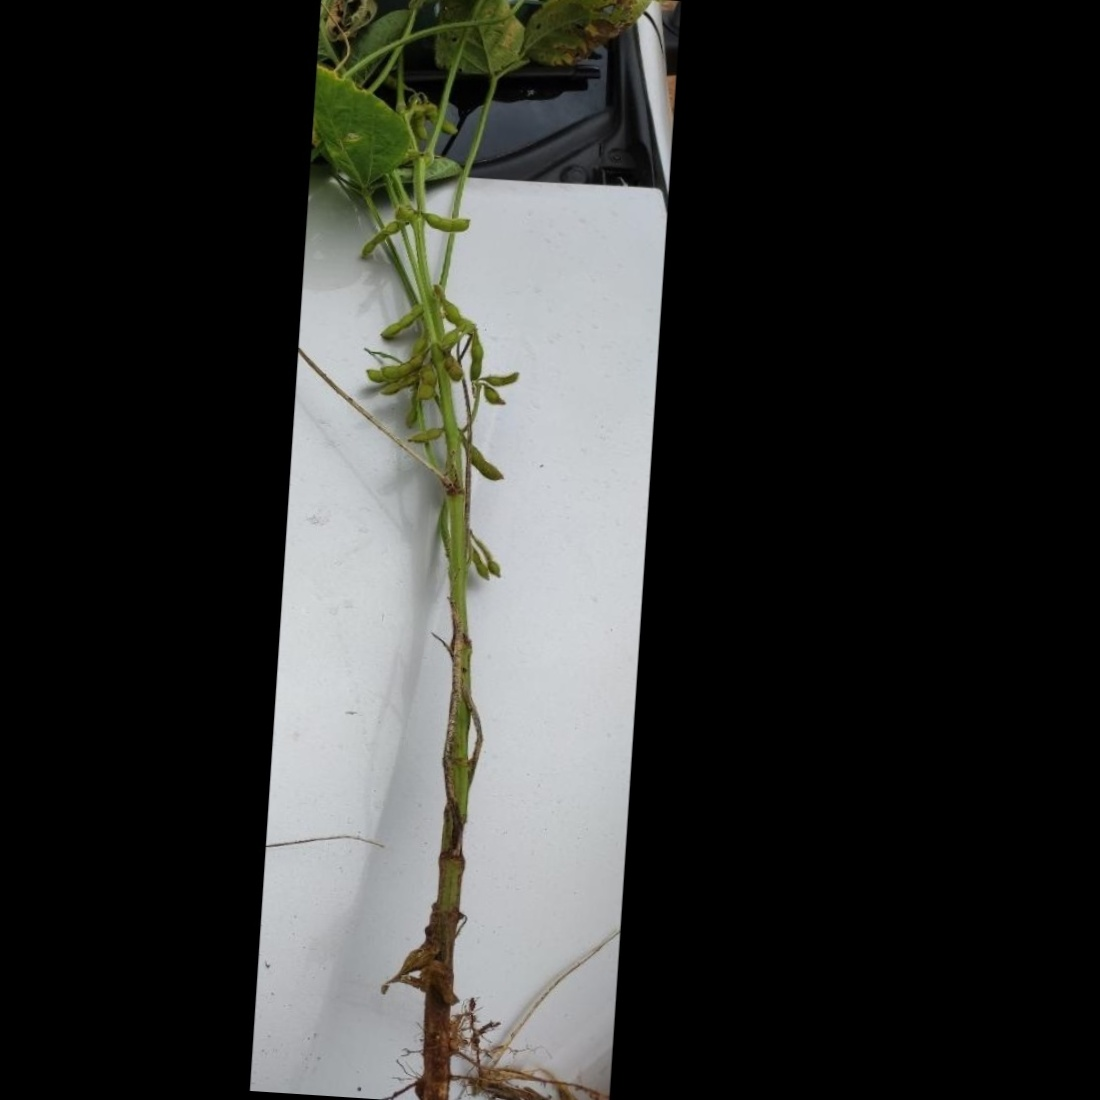pod: (357, 217, 409, 262), (457, 437, 508, 483), (377, 300, 423, 342), (421, 208, 471, 234), (476, 366, 529, 390), (462, 543, 491, 584), (423, 99, 455, 134), (464, 332, 485, 383), (403, 423, 444, 446), (416, 361, 439, 401), (477, 382, 510, 409), (439, 352, 466, 382), (487, 551, 509, 582), (413, 107, 429, 142)
soy: (263, 0, 654, 1089)
